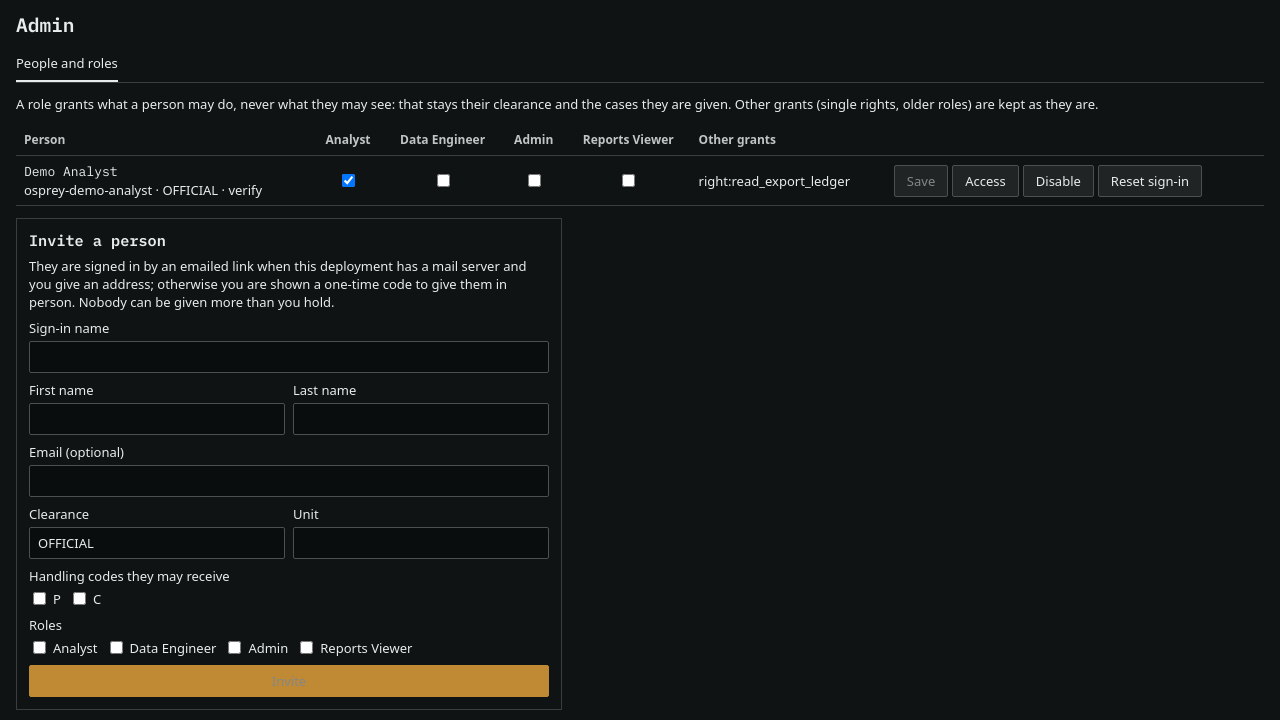
Test: people: invite, access, disable, enable, reset sign-in › disables a person only once it is confirmed, and enables them again
Click the button with aria-label "Disable osprey-demo-analyst" at (1058,180), box [1023,164,1094,196]
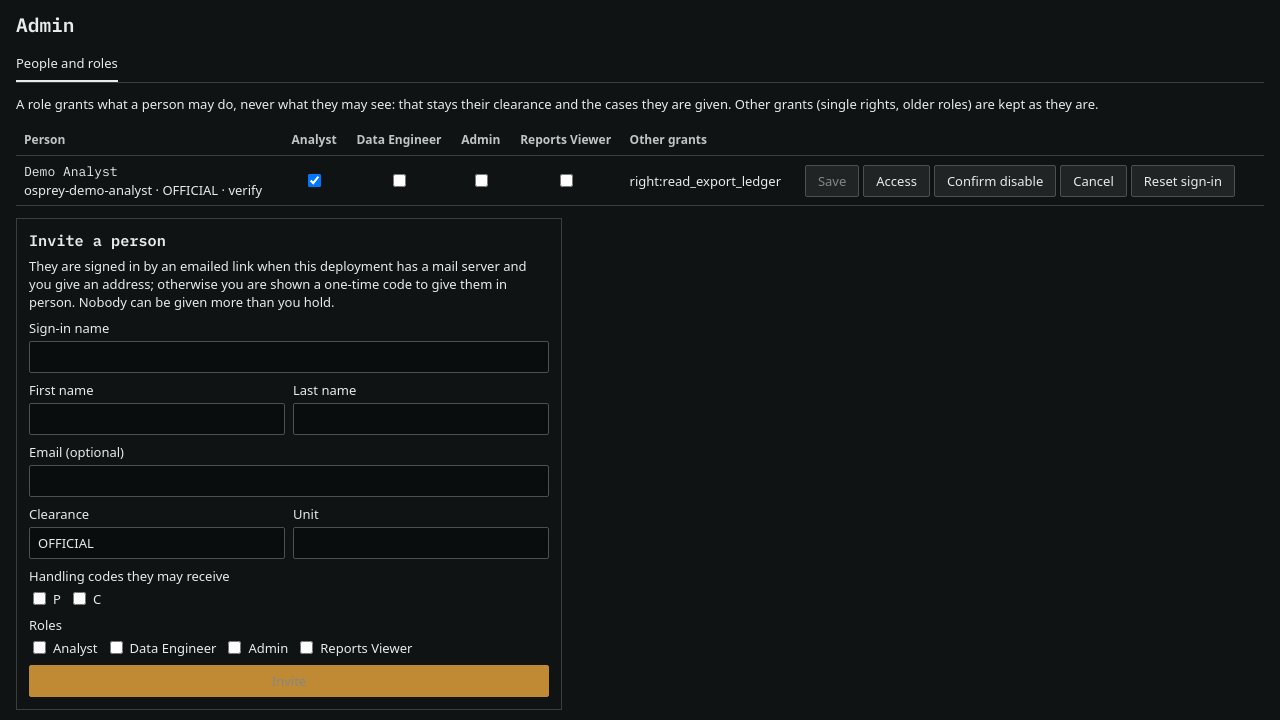
Click the button with aria-label "Confirm disabling osprey-demo-analyst" at (995,180), box [934,164,1056,196]
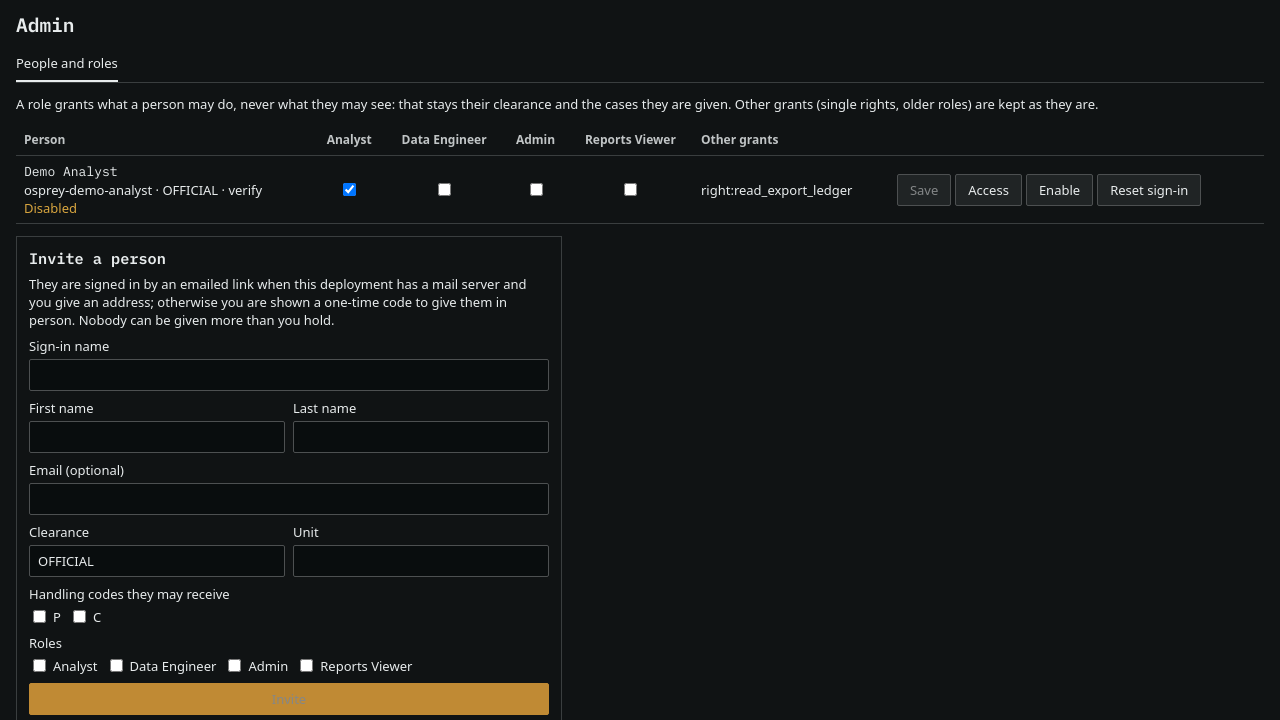
Expected: the text "Disabled" is shown, [24,199,77,217]
Click the button with aria-label "Enable osprey-demo-analyst" at (1060,190), box [1026,174,1093,206]
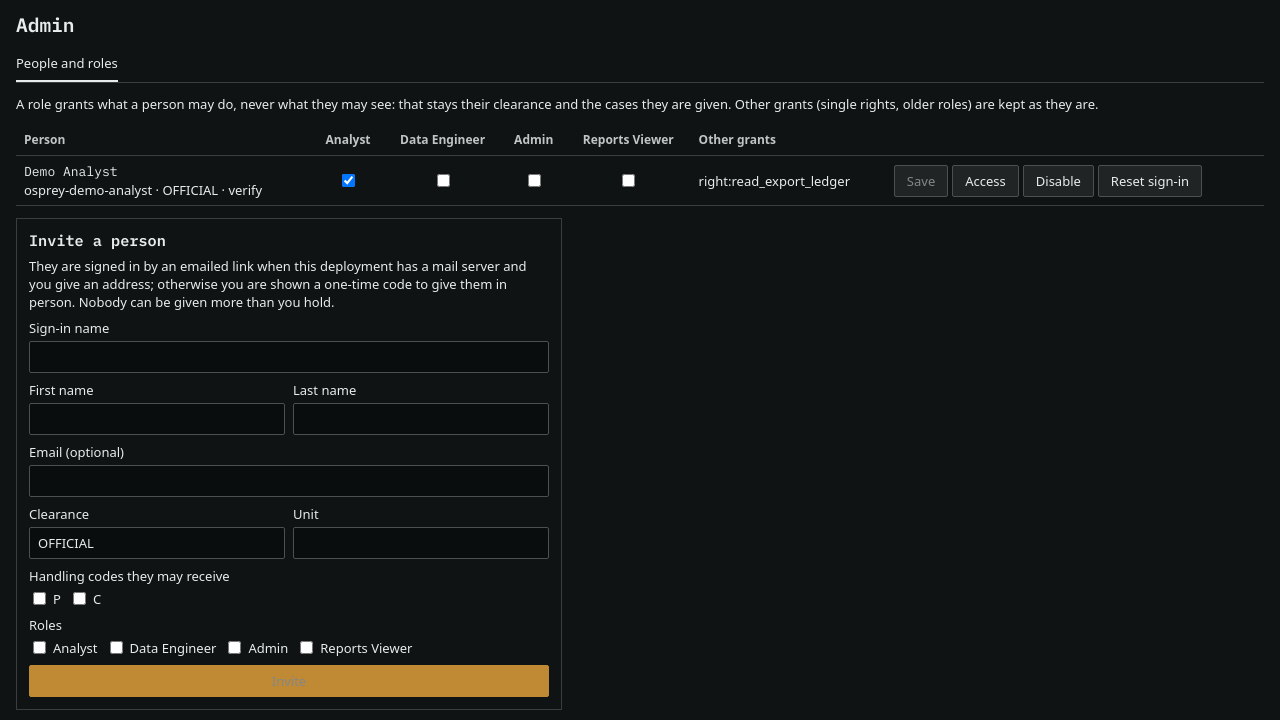
Expected: the text "Disabled" is gone
